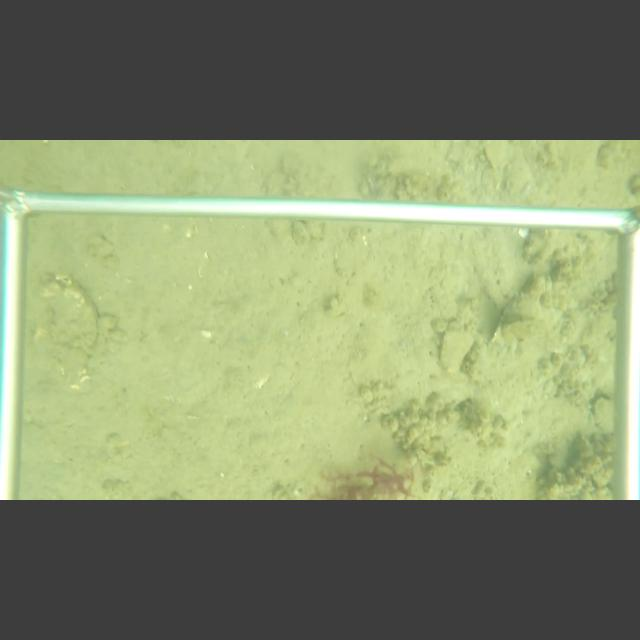Oyster-Closed: (462, 273, 570, 395), (38, 270, 101, 360), (480, 142, 516, 173)
